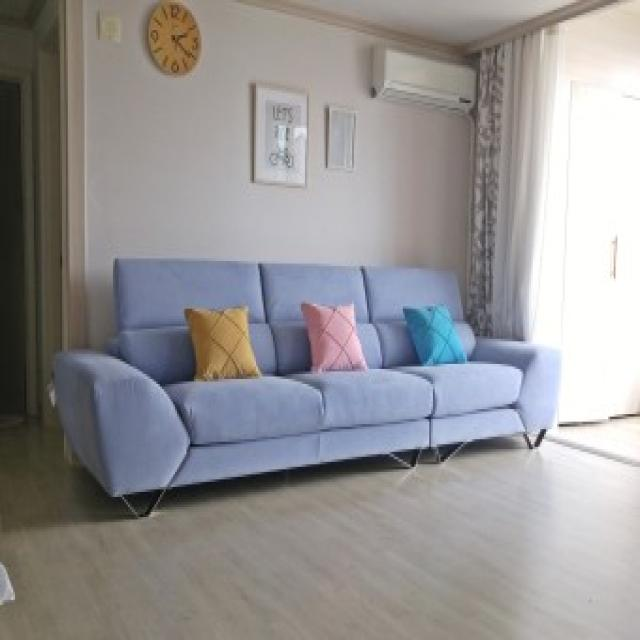Sofa: (52, 247, 562, 498)
